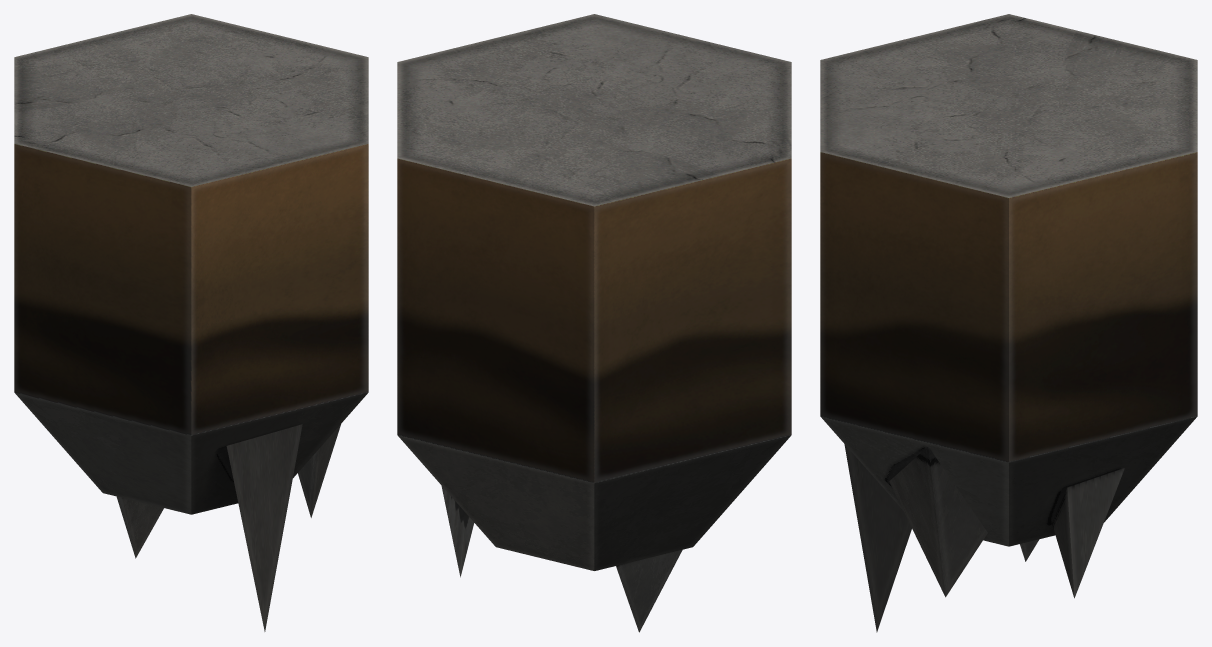
File: Hex_Stone.fbx
3 views of the same model, side by side, from view 1: azimuth 30°, elevation 25°; view 2: azimuth 150°, elevation 25°; view 3: azimuth 270°, elevation 25° (orthographic). The views are drawn at different scales.
Visible parts, largest first — view 1: Hex_Stone; view 2: Hex_Stone; view 3: Hex_Stone.
Part boxes in pixels (x1,y1,x2,y2): Hex_Stone: (14,14,368,631); Hex_Stone: (397,14,791,632); Hex_Stone: (820,14,1197,632).
Bounding box in the file's own units: 200 × 173 × 264.
